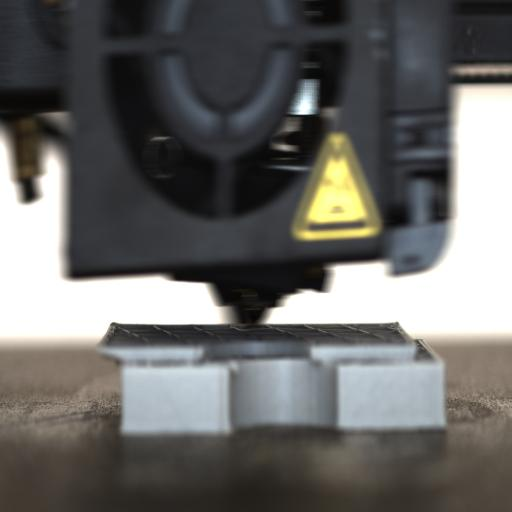layer_shift: (102, 350, 444, 369)
